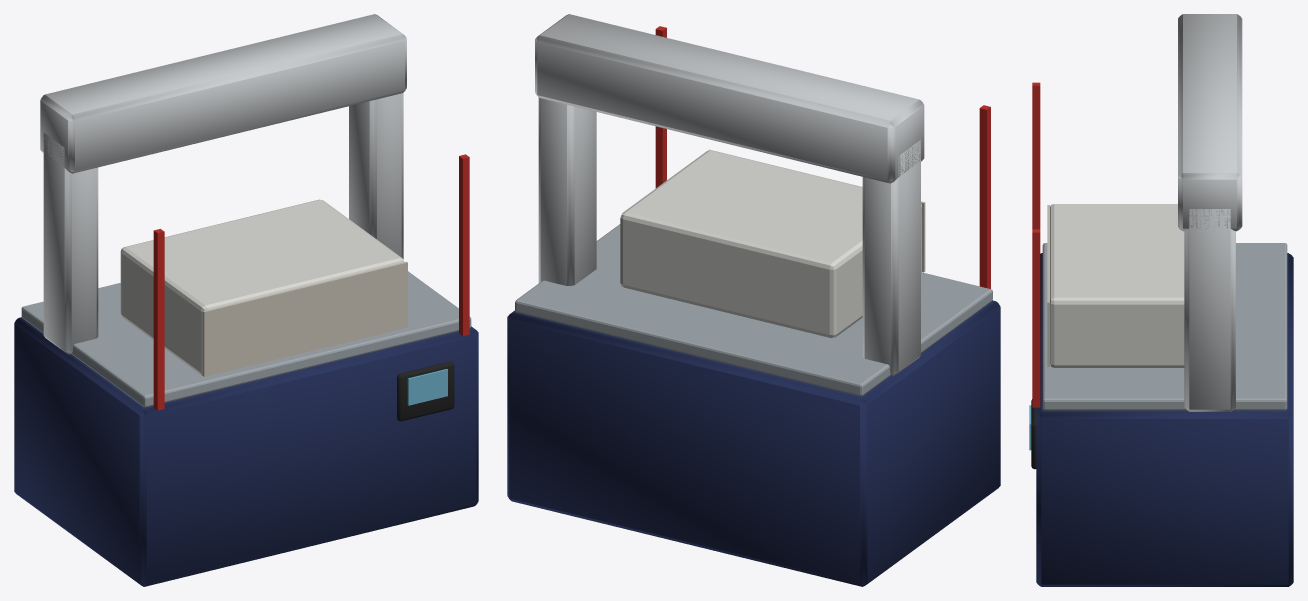
The model's file is m_cutter.glb.
The picture shows the model from 3 angles, left to right: view 1: azimuth 30°, elevation 25°; view 2: azimuth 150°, elevation 25°; view 3: azimuth 270°, elevation 25°; orthographic projection. The views are drawn at different scales.
Parts seen in each view (by area): view 1: m_cutter; view 2: m_cutter; view 3: m_cutter.
Part boxes in pixels (<box>): m_cutter: <box>14,14,478,586</box>; m_cutter: <box>507,14,1000,586</box>; m_cutter: <box>1029,14,1293,586</box>.
Bounding box in the file's own units: 0.6 × 0.71 × 0.411.
